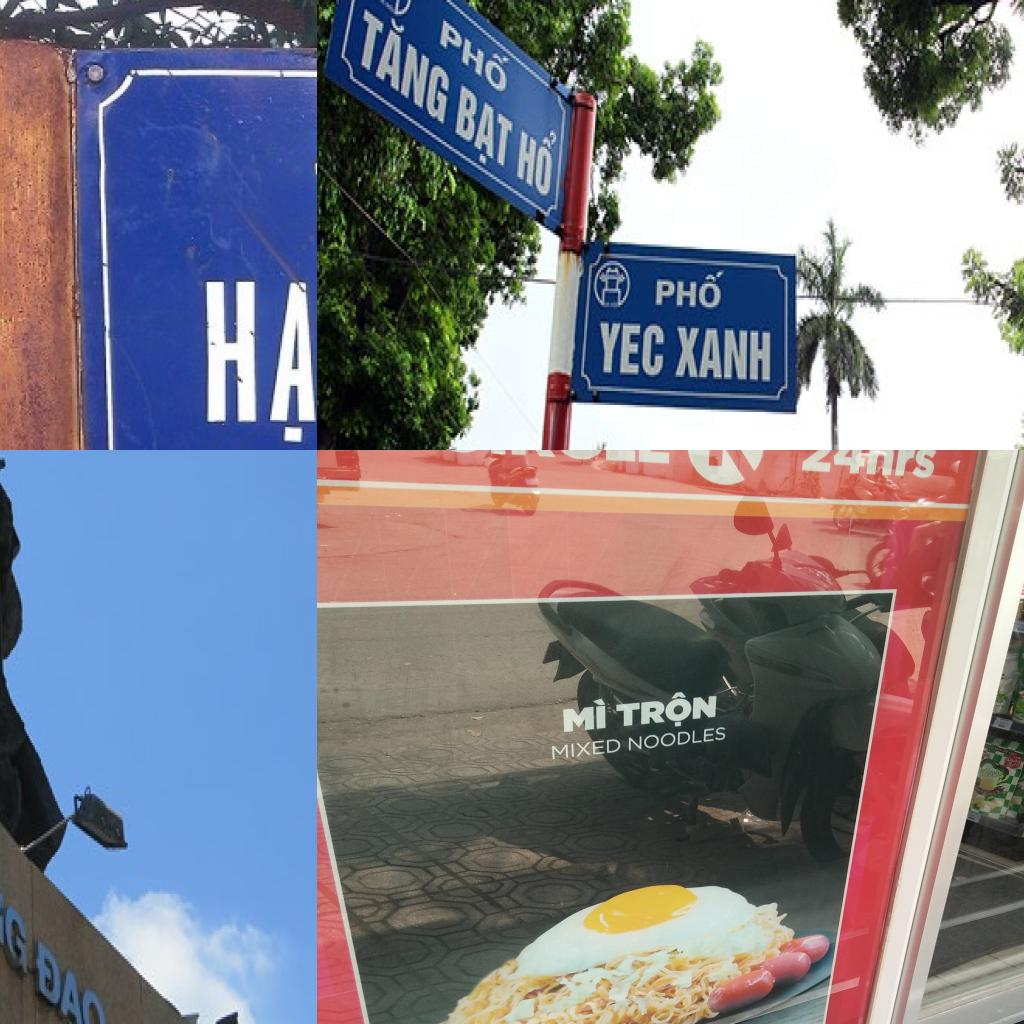text: (205, 278, 317, 448), (352, 0, 455, 132), (451, 72, 517, 186), (438, 9, 514, 100), (670, 321, 776, 386), (35, 937, 108, 1024), (0, 808, 28, 980), (513, 110, 561, 207), (596, 319, 668, 382), (615, 688, 717, 730), (800, 450, 940, 478), (651, 265, 727, 314), (427, 450, 671, 464), (628, 727, 726, 751), (551, 738, 622, 760), (708, 450, 755, 483), (562, 698, 606, 733), (978, 767, 1006, 779), (1003, 758, 1021, 766), (982, 752, 991, 758), (1008, 751, 1018, 756), (1002, 749, 1009, 754), (1022, 586, 1024, 590)
